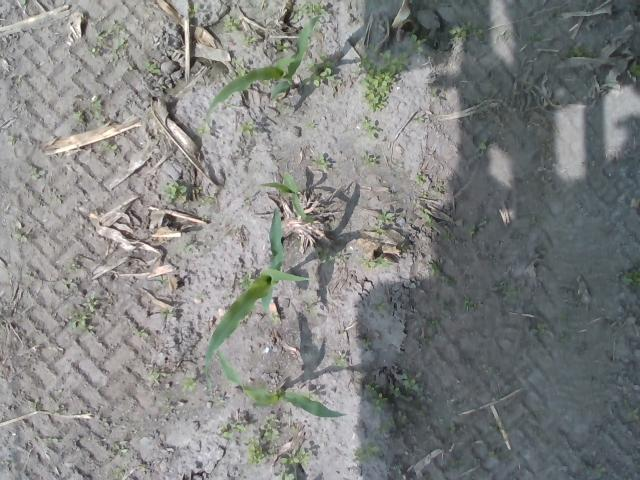Maize: (204, 206, 310, 378), (204, 15, 323, 120), (218, 350, 348, 419), (259, 174, 315, 222)
Weeds: (352, 44, 410, 112), (68, 293, 99, 336), (306, 54, 344, 88), (364, 382, 400, 410), (448, 20, 483, 42), (290, 3, 330, 22), (429, 262, 454, 289), (560, 40, 594, 58), (260, 412, 281, 441), (158, 180, 188, 200), (279, 448, 311, 466), (374, 210, 395, 235), (360, 256, 390, 270), (248, 438, 264, 464), (362, 118, 382, 138), (400, 370, 418, 391), (355, 444, 380, 459), (410, 32, 427, 54), (222, 13, 240, 32), (622, 270, 640, 286), (144, 62, 162, 76), (274, 38, 289, 54), (240, 272, 254, 289), (239, 120, 253, 136), (181, 378, 196, 392), (174, 241, 192, 252), (109, 46, 120, 64), (312, 154, 326, 168), (336, 356, 350, 369), (466, 223, 479, 237), (274, 472, 296, 480), (629, 61, 640, 77), (231, 422, 248, 432), (32, 168, 46, 180), (94, 98, 102, 118), (440, 231, 456, 241), (65, 261, 78, 273), (162, 307, 176, 318), (188, 3, 198, 18), (240, 35, 255, 45), (148, 368, 160, 380), (134, 327, 148, 337), (370, 302, 385, 311), (412, 172, 423, 184), (72, 109, 82, 122), (464, 297, 474, 308), (364, 156, 375, 166), (422, 214, 431, 226), (478, 142, 488, 152), (223, 430, 233, 438), (414, 116, 424, 124), (238, 68, 245, 76), (119, 449, 129, 454), (194, 186, 201, 192), (208, 196, 214, 203)
